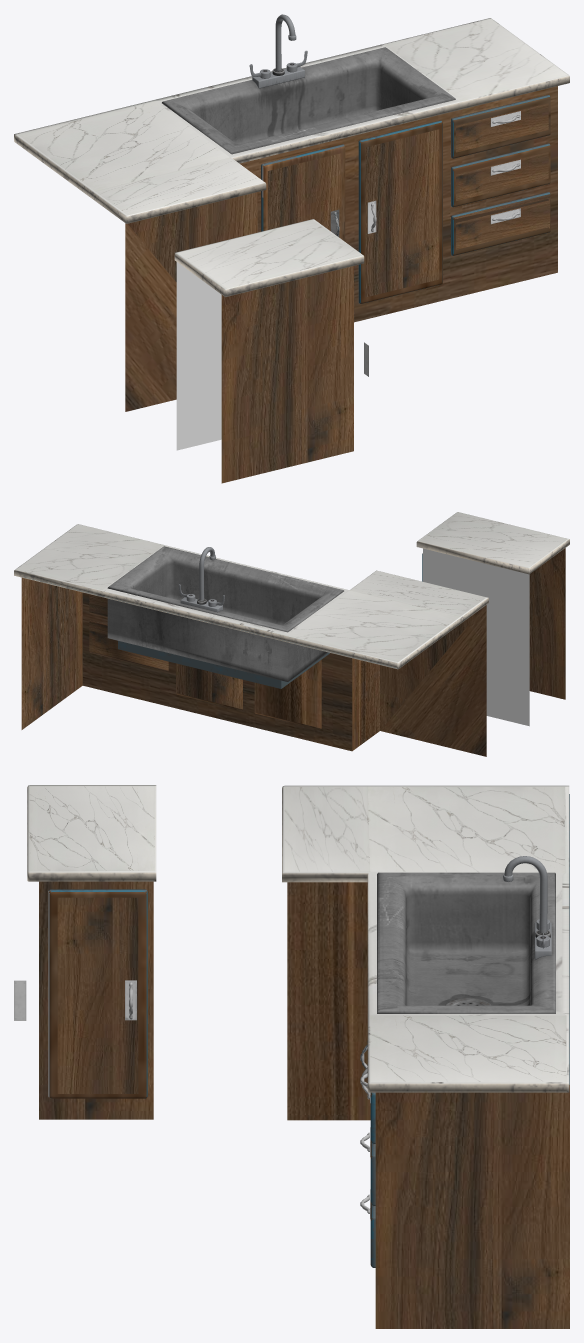
File: kitchen_countertop.gltf
3 views of the same model, one above another, from view 1: azimuth 30°, elevation 25°; view 2: azimuth 150°, elevation 25°; view 3: azimuth 270°, elevation 25° (orthographic). The views are drawn at different scales.
Parts seen in each view (by area): view 1: Cylinder, Cylinder_SM_KitchenCounters_0.053, Cylinder_SM_KitchenCounters_0.048, Cylinder_SM_KitchenCounters_0.050, Cylinder_SM_KitchenCounters_0.136, Cylinder_SM_KitchenCounters_0.003, Cylinder_SM_KitchenCounters_0.056, Cylinder_SM_KitchenCounters_0.069, Cylinder_SM_KitchenCounters_0.121, Cylinder_SM_KitchenCounters_0.001, Cylinder_SM_KitchenCounters_0.151, Cylinder_SM_KitchenCounters_0.181 (+7 smaller); view 2: Cylinder, Cylinder_SM_KitchenCounters_0.050, Cylinder_SM_KitchenCounters_0.048, Cylinder_SM_KitchenCounters_0.056, Cylinder_SM_KitchenCounters_0.046, Cylinder_SM_KitchenCounters_0.078, Cylinder_SM_KitchenCounters_0.002, Cylinder_SM_KitchenCounters_0.053, Cylinder_SM_KitchenCounters_0.069, Cylinder_SM_KitchenCounters_0.001, Cylinder_SM_KitchenCounters_0.215, Cylinder_SM_KitchenCounters_0.066 (+9 smaller); view 3: Cylinder_SM_KitchenCounters_0.046, Cylinder, Cylinder_SM_KitchenCounters_0.196, Cylinder_SM_KitchenCounters_0.052, Cylinder_SM_KitchenCounters_0.069, Cylinder_SM_KitchenCounters_0.001, Cylinder_SM_KitchenCounters_0.080, Cylinder_SM_KitchenCounters_0.055, Cylinder_SM_KitchenCounters_0.083, Cylinder_SM_KitchenCounters_0.064, Cylinder_SM_KitchenCounters_0.070, Cylinder_SM_KitchenCounters_0.002 (+3 smaller).
Boxes of the visible parts, <box> form: Cylinder: <box>14,18,569,216</box>; Cylinder_SM_KitchenCounters_0.053: <box>221,266,353,483</box>; Cylinder_SM_KitchenCounters_0.048: <box>240,86,557,322</box>; Cylinder_SM_KitchenCounters_0.050: <box>125,192,257,411</box>; Cylinder_SM_KitchenCounters_0.136: <box>360,122,442,303</box>; Cylinder_SM_KitchenCounters_0.003: <box>189,61,378,144</box>; Cylinder_SM_KitchenCounters_0.056: <box>176,262,221,450</box>; Cylinder_SM_KitchenCounters_0.069: <box>175,219,363,289</box>; Cylinder_SM_KitchenCounters_0.121: <box>262,145,344,241</box>; Cylinder_SM_KitchenCounters_0.001: <box>162,47,454,152</box>; Cylinder_SM_KitchenCounters_0.151: <box>453,96,550,158</box>; Cylinder_SM_KitchenCounters_0.181: <box>453,193,550,255</box>; Cylinder: <box>15,524,487,663</box>; Cylinder_SM_KitchenCounters_0.050: <box>380,605,486,756</box>; Cylinder_SM_KitchenCounters_0.048: <box>82,592,352,751</box>; Cylinder_SM_KitchenCounters_0.056: <box>423,548,529,726</box>; Cylinder_SM_KitchenCounters_0.046: <box>21,577,82,729</box>; Cylinder_SM_KitchenCounters_0.078: <box>107,587,287,681</box>; Cylinder_SM_KitchenCounters_0.002: <box>168,558,320,624</box>; Cylinder_SM_KitchenCounters_0.053: <box>529,548,565,699</box>; Cylinder_SM_KitchenCounters_0.069: <box>418,512,569,568</box>; Cylinder_SM_KitchenCounters_0.001: <box>108,546,343,630</box>; Cylinder_SM_KitchenCounters_0.215: <box>254,660,321,729</box>; Cylinder_SM_KitchenCounters_0.066: <box>14,570,398,669</box>; Cylinder_SM_KitchenCounters_0.046: <box>375,1085,569,1328</box>; Cylinder: <box>282,785,569,1083</box>; Cylinder_SM_KitchenCounters_0.196: <box>49,891,146,1098</box>; Cylinder_SM_KitchenCounters_0.052: <box>287,882,370,1120</box>; Cylinder_SM_KitchenCounters_0.069: <box>28,785,156,872</box>; Cylinder_SM_KitchenCounters_0.001: <box>378,872,555,1011</box>; Cylinder_SM_KitchenCounters_0.080: <box>407,886,529,951</box>; Cylinder_SM_KitchenCounters_0.055: <box>39,881,153,1119</box>; Cylinder_SM_KitchenCounters_0.083: <box>410,951,525,1005</box>; Cylinder_SM_KitchenCounters_0.064: <box>368,1083,569,1092</box>; Cylinder_SM_KitchenCounters_0.070: <box>28,872,156,881</box>; Cylinder_SM_KitchenCounters_0.002: <box>402,888,410,1005</box>.
Size of the model in its own units: 2.35 by 1.25 by 1.85.
26 materials, 24 textured.
